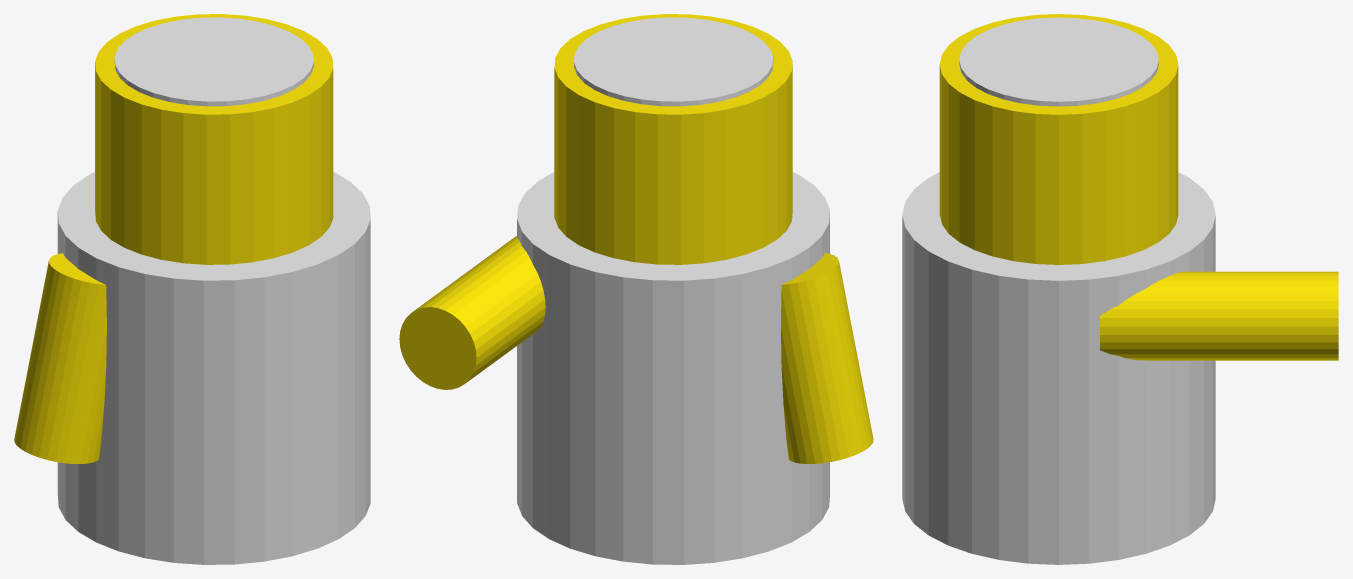
The model's file is Zeus.fbx.
3 renders of one model, left to right at view 1: azimuth 30°, elevation 25°; view 2: azimuth 150°, elevation 25°; view 3: azimuth 270°, elevation 25°, orthographic.
Visible parts, largest first — view 1: Cylinder, Cylinder.004, Cylinder.002, Cylinder.001; view 2: Cylinder, Cylinder.004, Cylinder.002, Cylinder.001, Cylinder.003; view 3: Cylinder, Cylinder.004, Cylinder.003, Cylinder.001.
Part boxes in pixels (box(x1,y1,x2,y2)): Cylinder: box(57, 172, 370, 564); Cylinder.004: box(95, 14, 333, 264); Cylinder.002: box(14, 253, 106, 463); Cylinder.001: box(114, 17, 313, 106); Cylinder: box(517, 172, 829, 564); Cylinder.004: box(554, 14, 792, 264); Cylinder.002: box(781, 253, 873, 463); Cylinder.001: box(574, 17, 773, 106); Cylinder.003: box(399, 236, 545, 389); Cylinder: box(902, 172, 1215, 564); Cylinder.004: box(939, 14, 1178, 264); Cylinder.003: box(1100, 271, 1338, 360); Cylinder.001: box(959, 17, 1158, 106).
Bounding box in the file's own units: 10.68 × 13.6 × 12.25.
